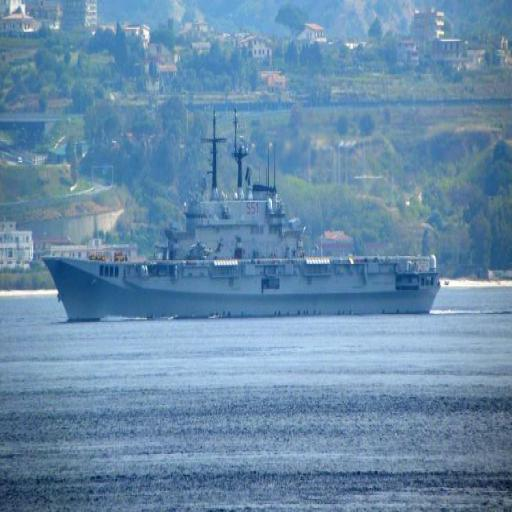Portanaves: (46, 107, 444, 326)
